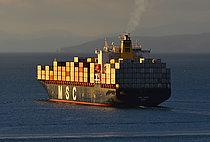Ship: (33, 30, 176, 115)
